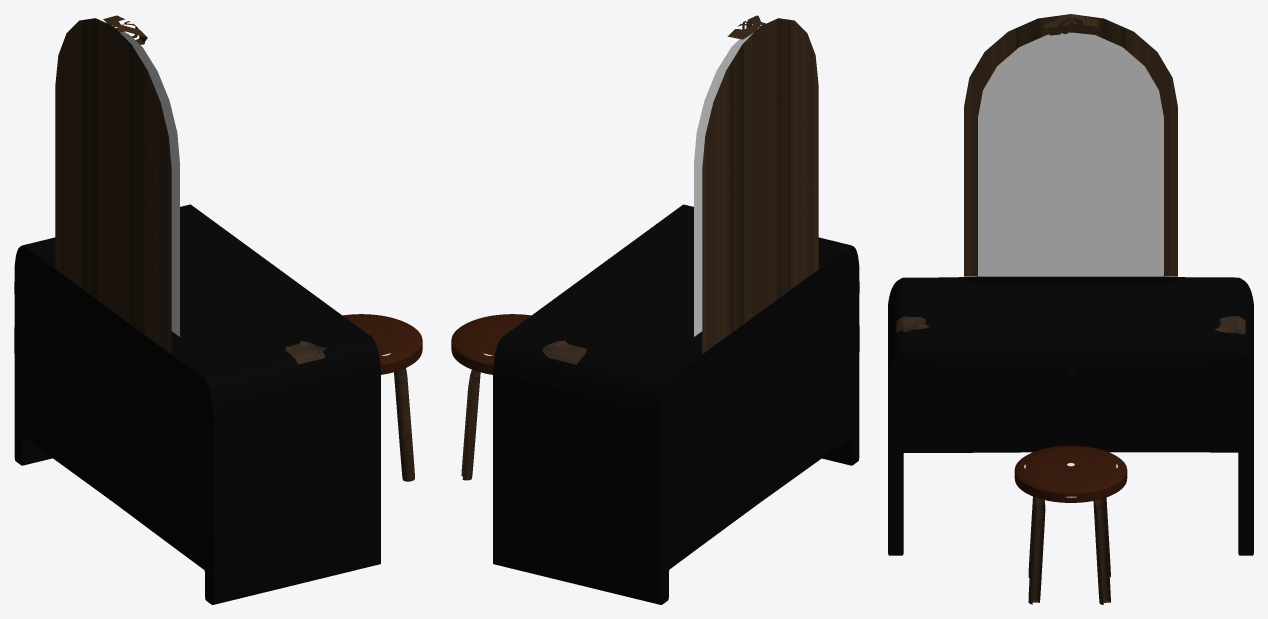
File: meja rias[1].fbx
3 views of the same model, side by side, from view 1: azimuth 30°, elevation 25°; view 2: azimuth 150°, elevation 25°; view 3: azimuth 270°, elevation 25° (orthographic). The views are drawn at different scales.
Visible parts, largest first — view 1: Meja, FRAME CERMIN, Cermin.001, Kursi, Kaki kursi; view 2: Meja, FRAME CERMIN, Cermin.001, Kursi, Kaki kursi; view 3: Meja, Cermin.001, FRAME CERMIN, Kursi, Kaki kursi.
Part boxes in pixels (box(x1,y1,x2,y2)): Meja: box(14, 204, 380, 604); FRAME CERMIN: box(55, 15, 171, 353); Cermin.001: box(120, 32, 179, 336); Kursi: box(342, 314, 422, 374); Kaki kursi: box(394, 368, 414, 481); Meja: box(493, 204, 859, 604); FRAME CERMIN: box(702, 15, 818, 353); Cermin.001: box(694, 28, 758, 336); Kursi: box(451, 314, 531, 374); Kaki kursi: box(461, 369, 480, 480); Meja: box(888, 276, 1253, 555); Cermin.001: box(978, 32, 1163, 276); FRAME CERMIN: box(964, 14, 1177, 276); Kursi: box(1014, 445, 1127, 502); Kaki kursi: box(1028, 496, 1110, 604).
Bounding box in the file's own units: 1023 × 1646 × 1171.
Materials: 5 (3 with a texture image).
